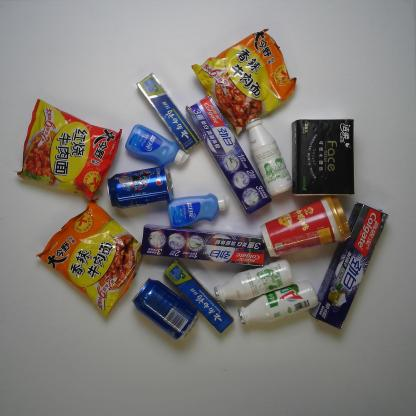Drink: (131, 277, 199, 340), (106, 166, 174, 210)
Instant Drink: (260, 196, 351, 258)
Instant Noodles: (36, 198, 146, 316), (14, 98, 122, 203), (192, 27, 296, 136)
Milk: (245, 117, 293, 197), (237, 280, 318, 326), (214, 258, 295, 302)
Personal Hygiene: (185, 94, 272, 217), (310, 202, 389, 328), (140, 224, 267, 267), (164, 259, 235, 334), (136, 73, 202, 153), (126, 125, 190, 166), (167, 193, 229, 228)
Tissue: (291, 119, 355, 196)
